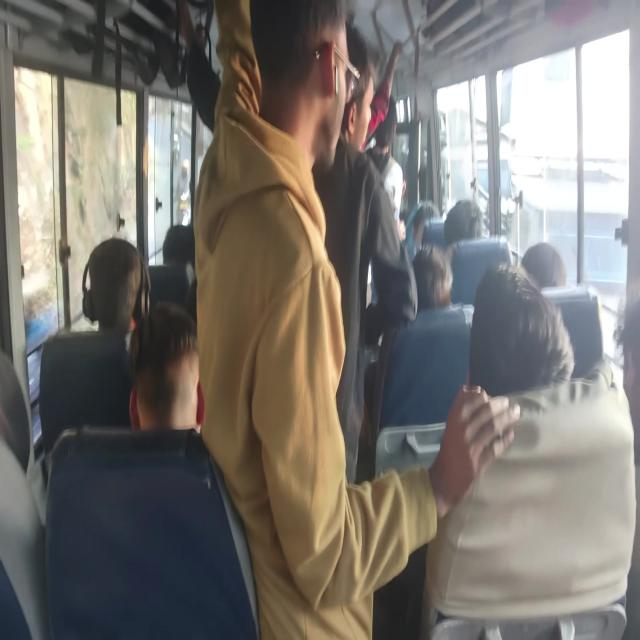person: (250, 0, 349, 188), (460, 264, 565, 421), (134, 308, 203, 434), (0, 341, 53, 461), (88, 217, 143, 329), (331, 4, 368, 162), (407, 240, 456, 340), (608, 302, 640, 438), (515, 233, 573, 296), (450, 188, 490, 247), (377, 100, 412, 162), (162, 219, 192, 265), (410, 188, 439, 234)
